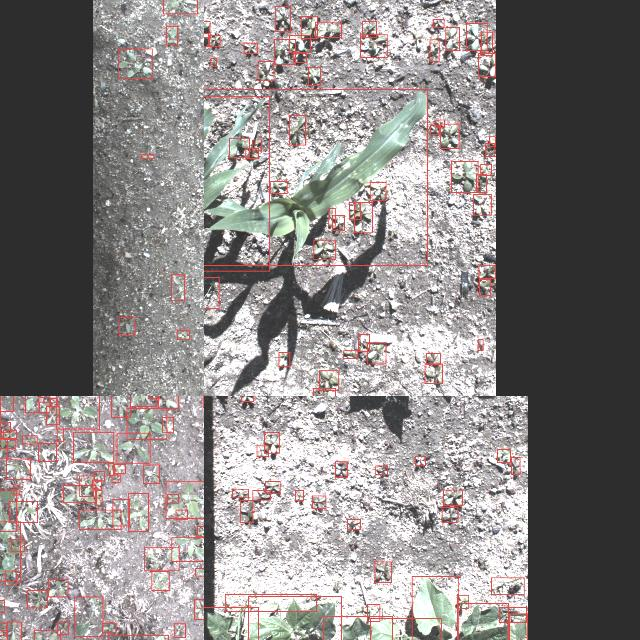crop: (204, 89, 427, 265), (204, 97, 269, 271), (248, 596, 341, 640), (411, 576, 458, 640), (457, 602, 508, 640), (204, 607, 258, 640), (323, 616, 392, 640), (370, 617, 441, 640), (510, 613, 528, 640)
weed: (224, 594, 316, 612), (56, 396, 100, 429), (165, 481, 204, 518), (127, 408, 167, 439), (73, 432, 114, 462), (0, 521, 20, 580), (75, 597, 103, 637), (118, 49, 152, 79), (116, 433, 150, 463), (79, 510, 121, 530), (171, 538, 204, 562), (144, 548, 180, 570), (452, 162, 478, 192), (129, 494, 149, 532), (360, 34, 388, 58), (0, 490, 16, 532), (8, 502, 38, 522), (63, 485, 95, 503), (467, 24, 488, 51), (288, 115, 306, 145), (354, 203, 372, 233), (274, 40, 296, 64), (492, 578, 524, 594), (6, 458, 30, 479), (162, 0, 197, 14), (112, 499, 130, 526), (440, 124, 460, 148), (204, 277, 218, 308), (478, 53, 496, 77), (315, 22, 341, 38), (319, 371, 339, 391), (229, 138, 249, 158), (314, 240, 334, 260), (368, 342, 387, 363), (111, 396, 130, 417), (499, 608, 526, 622), (276, 6, 290, 32), (474, 195, 492, 215), (425, 364, 443, 384), (27, 590, 47, 608), (301, 16, 317, 38), (38, 443, 56, 461), (258, 61, 274, 81), (290, 36, 310, 52), (144, 464, 160, 484), (48, 580, 68, 596), (375, 562, 391, 582), (172, 274, 184, 300), (446, 28, 460, 50), (443, 490, 462, 506), (118, 317, 134, 335), (370, 182, 386, 200), (481, 32, 493, 56), (152, 572, 168, 590), (6, 621, 21, 640), (80, 476, 94, 496), (264, 433, 278, 453), (240, 500, 252, 522), (130, 396, 156, 406), (34, 630, 60, 640), (478, 265, 496, 279), (46, 406, 60, 424), (158, 396, 178, 408), (362, 22, 376, 38), (25, 396, 39, 412), (442, 508, 458, 522), (430, 40, 440, 62), (165, 26, 177, 44), (308, 67, 320, 85), (368, 604, 380, 622), (271, 180, 287, 193), (194, 599, 204, 619), (358, 334, 369, 352), (477, 174, 488, 192), (479, 280, 491, 296), (264, 481, 280, 493), (350, 202, 360, 220), (252, 490, 270, 500), (313, 388, 335, 396), (278, 353, 290, 367), (332, 216, 344, 230), (162, 418, 174, 432), (10, 540, 24, 552), (5, 571, 17, 585), (174, 624, 186, 638), (312, 496, 326, 508), (335, 462, 347, 476), (232, 488, 248, 498), (0, 438, 15, 448), (244, 42, 256, 54), (457, 596, 469, 608), (498, 450, 510, 462), (427, 354, 441, 364), (2, 430, 16, 440), (481, 164, 492, 176), (512, 458, 520, 474), (177, 330, 189, 340), (208, 36, 220, 46), (246, 148, 258, 158), (486, 144, 496, 156), (294, 53, 306, 63), (114, 464, 126, 474), (176, 510, 188, 520), (58, 622, 68, 634), (256, 446, 268, 456), (348, 520, 360, 530), (0, 438, 6, 457), (344, 351, 358, 359), (22, 436, 36, 444), (102, 624, 116, 632), (39, 402, 50, 412), (329, 208, 335, 226), (252, 140, 262, 150), (430, 125, 440, 135), (0, 422, 10, 432), (168, 494, 178, 504), (94, 471, 104, 481), (415, 456, 425, 466), (204, 21, 210, 37), (96, 490, 102, 506), (375, 466, 387, 474), (57, 428, 63, 442), (92, 479, 101, 488), (434, 19, 444, 27), (295, 490, 303, 500), (197, 525, 204, 536), (108, 464, 114, 476), (195, 568, 204, 576), (0, 623, 6, 635), (241, 396, 253, 402), (112, 474, 120, 482), (490, 137, 496, 147), (478, 340, 484, 350), (13, 485, 19, 495), (140, 154, 154, 158), (50, 398, 56, 407), (204, 33, 208, 46), (0, 600, 4, 613), (210, 58, 216, 66), (436, 120, 444, 126), (148, 396, 157, 398)
